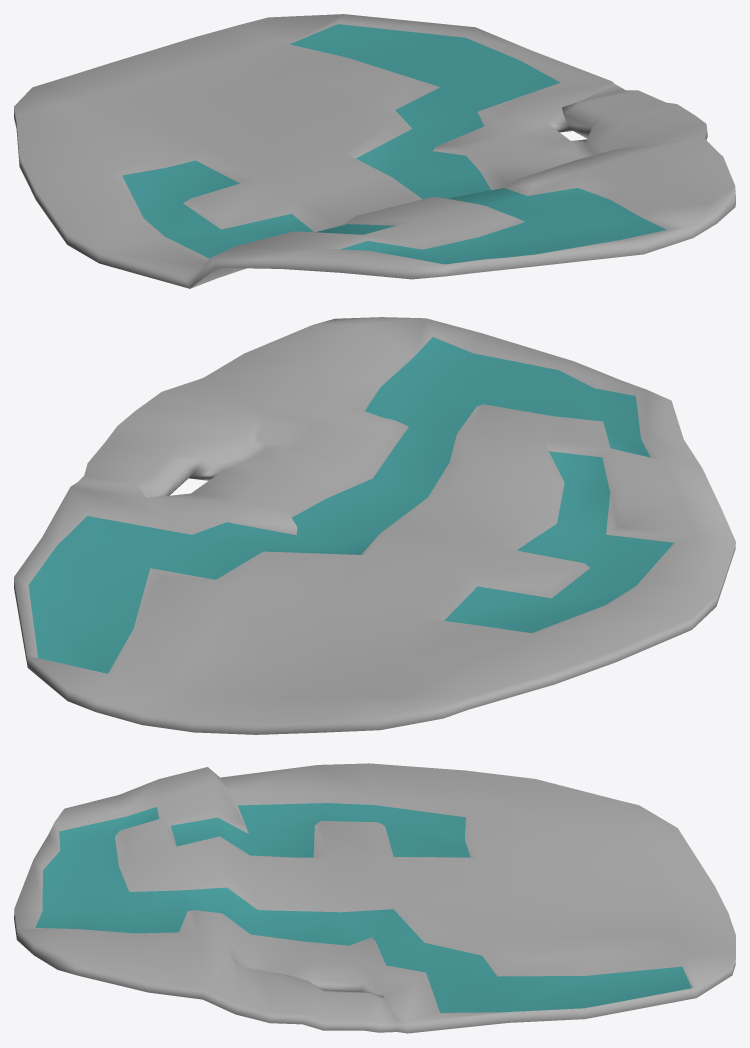
File: Terrain_Fungi_Top.fbx
3 renders of one model, top to bottom at view 1: azimuth 30°, elevation 25°; view 2: azimuth 150°, elevation 25°; view 3: azimuth 270°, elevation 25°, orthographic. The views are drawn at different scales.
Parts seen in each view (by area): view 1: Terrain_Fungi_Top; view 2: Terrain_Fungi_Top; view 3: Terrain_Fungi_Top.
Part boxes in pixels (x1,y1,x2,y2): Terrain_Fungi_Top: (14,14,735,288); Terrain_Fungi_Top: (14,317,735,734); Terrain_Fungi_Top: (14,763,735,1033).
Bounding box in the file's own units: 154 × 19.81 × 178.
